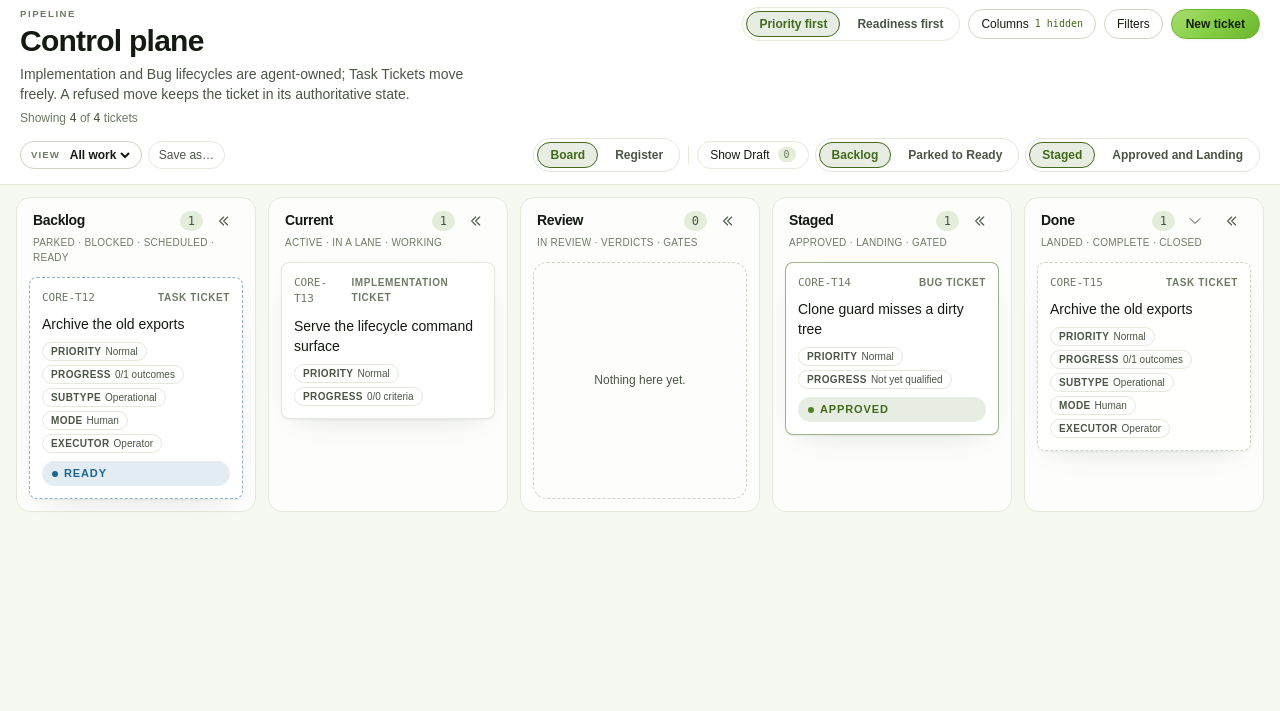
Test case: the board › offers no register move for a Task the core says has landed
This screenshot has width=1280, height=711.
Click the button with test id "board-presentation-register".
click(639, 155)  # box [602,142,676,168]
(page scrolled)
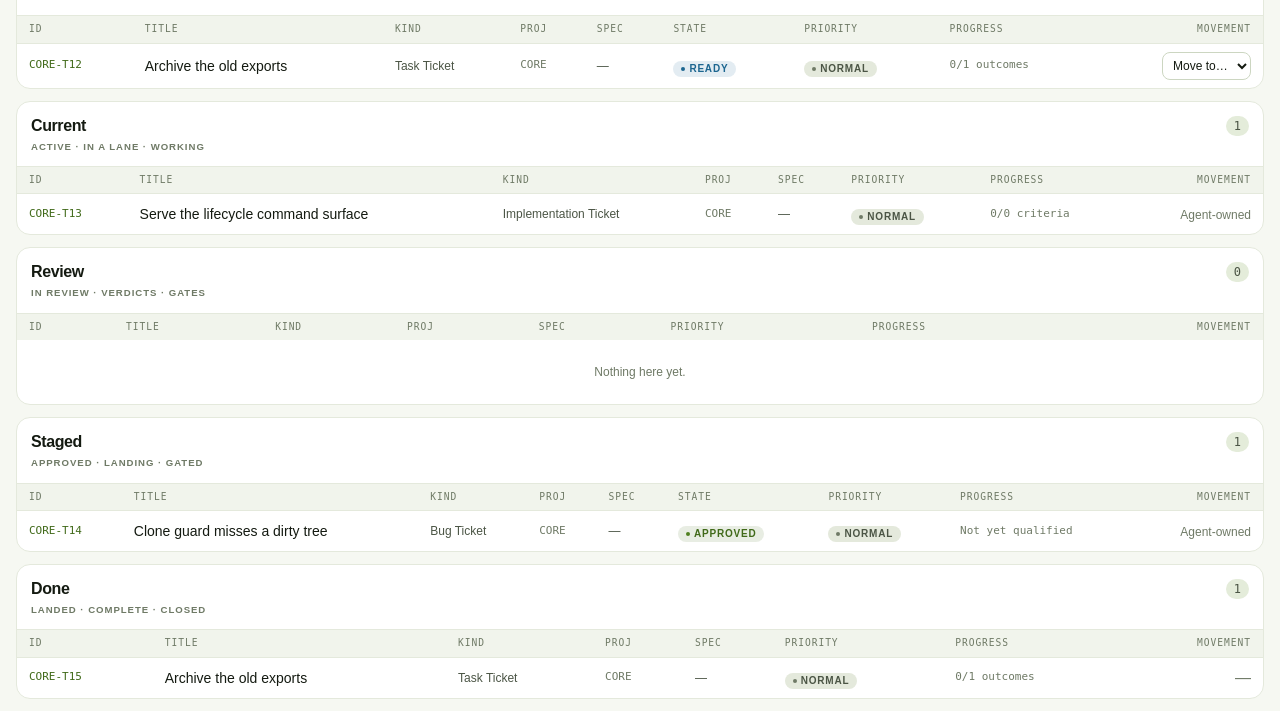
Now the row with test id "register-row-10" is shown, box [17,657,1263,698]
